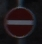No entry: (5, 5, 37, 39)
